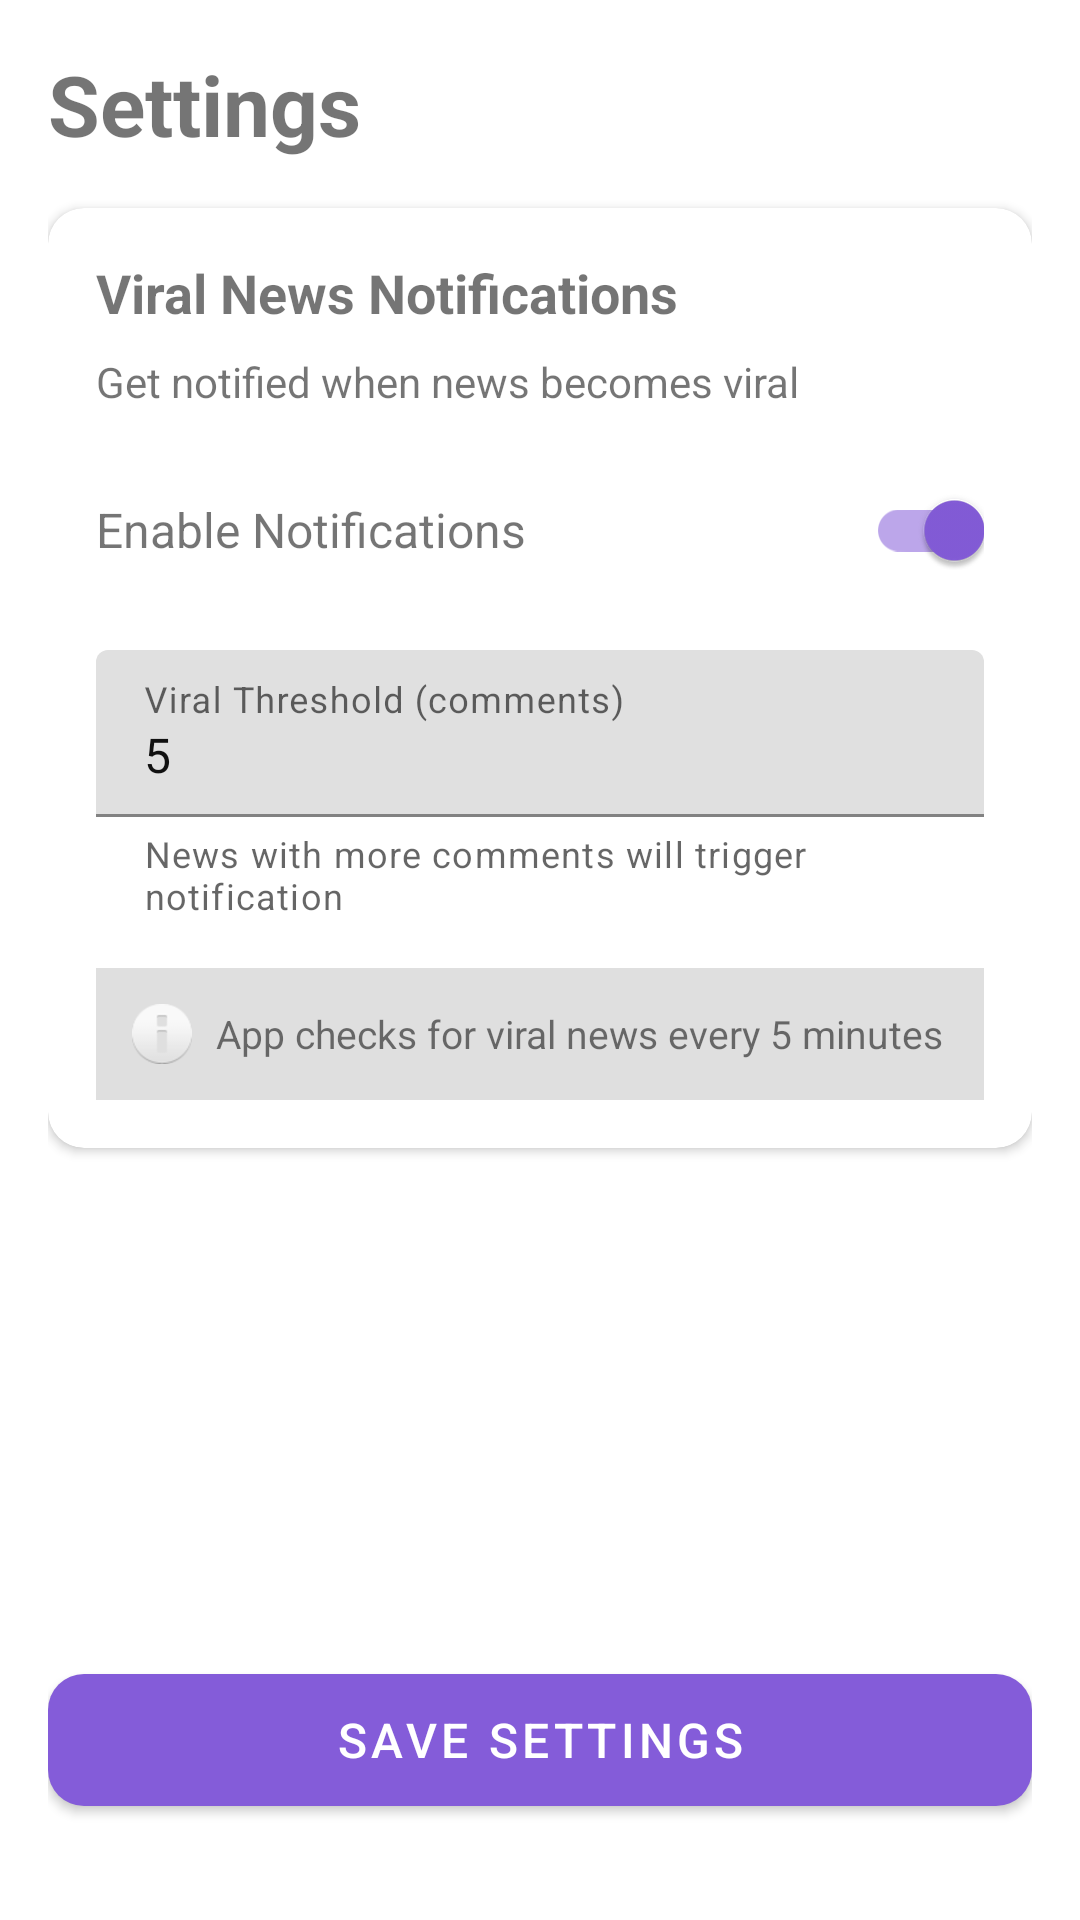

Named icons in this screenshot (1080*1920) and their bounding boxes, (x1, y1, x2, y2):
info: (134, 1004, 190, 1064)
